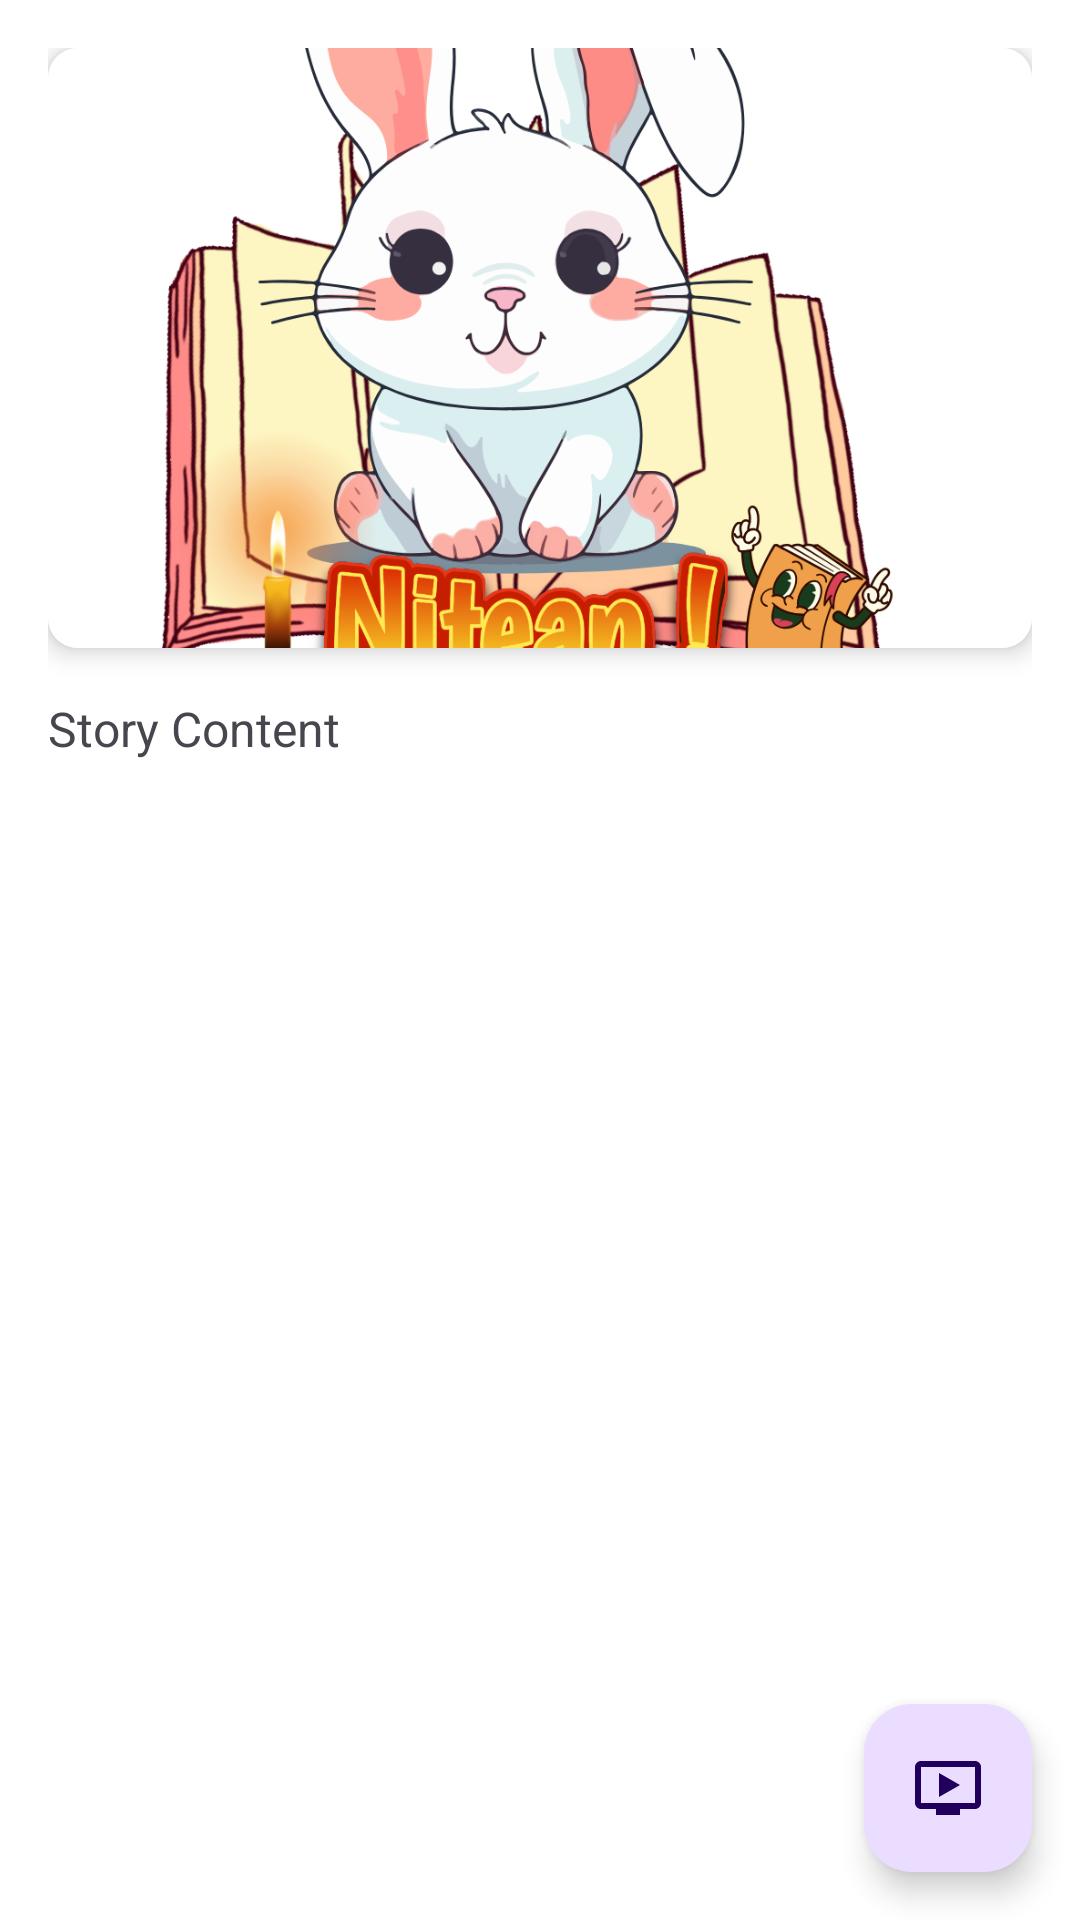

Icon click points for this 1080px×1920px phone screenshot, format point (x, y):
video: point (948, 1788)
